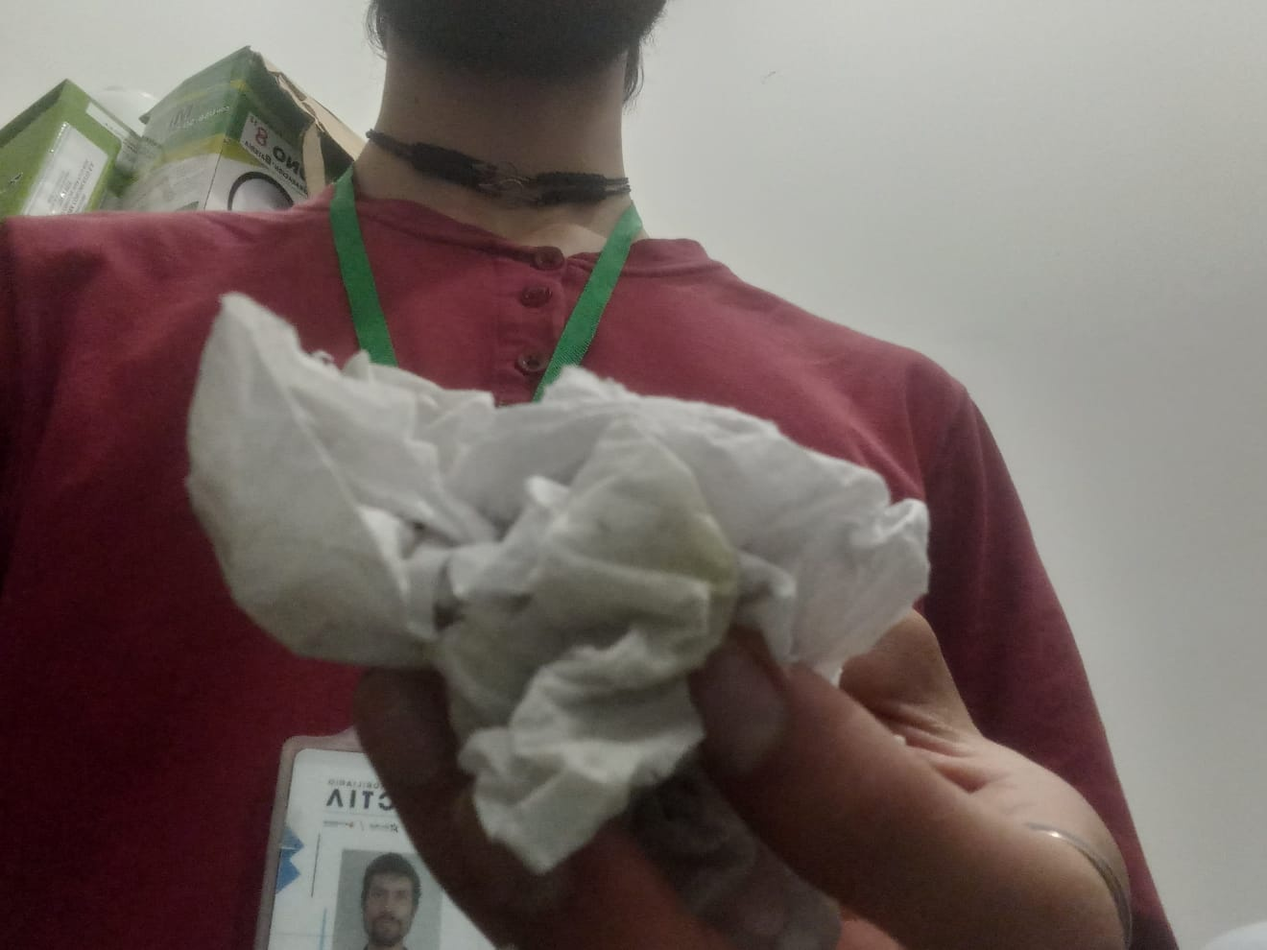Ordinario: (186, 293, 930, 873)
